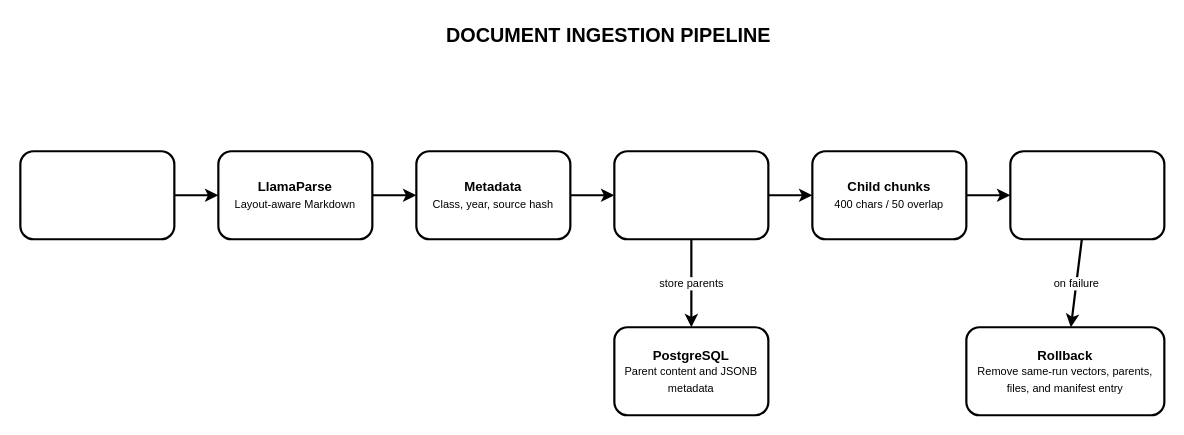
Some shapes in this 1184 by 435 pixel diagram are drawn without their labels. Each missing label, with the centre of its shape:
Parent chunks 2,800 chars / 100 overlap: (x=691, y=195)
PDF upload Admin, <= 5 MiB: (x=97, y=195)
Qdrant 768-D vectors: (x=1087, y=195)
